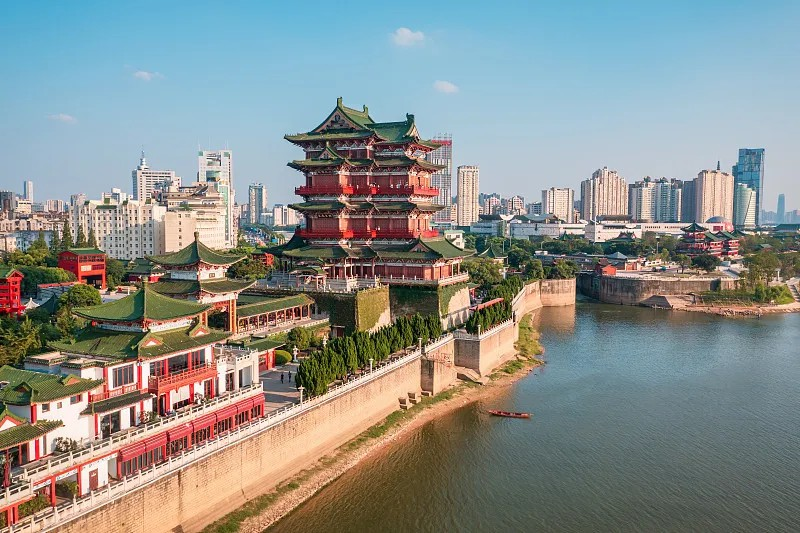Teng: (284, 94, 474, 283)
